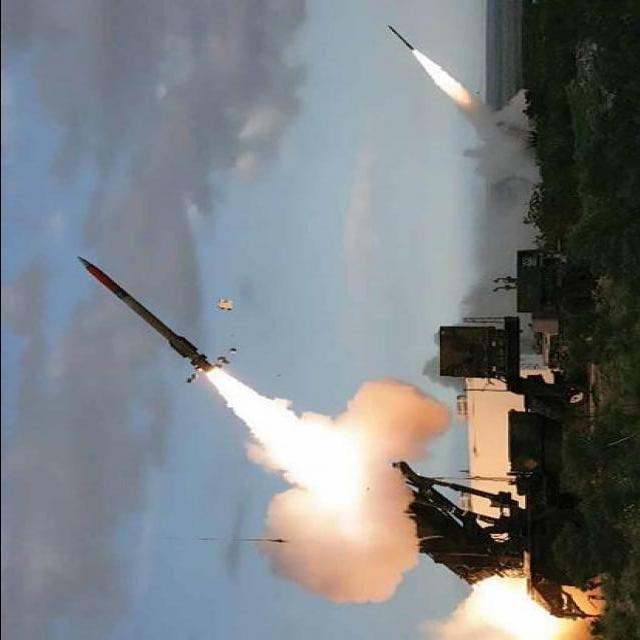missile: (67, 255, 218, 388), (381, 25, 421, 52)
